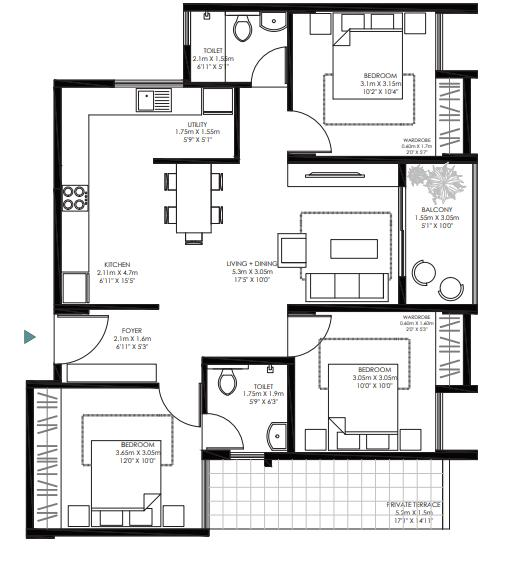Balcony: (404, 166, 474, 308)
Bedroom: (32, 384, 208, 532), (293, 12, 436, 159), (291, 312, 437, 452)
Dining Room: (152, 165, 261, 302)
Dining table: (155, 163, 230, 255)
Foyer: (56, 313, 284, 361)
Kitchen: (60, 87, 151, 302)
Living Room: (261, 163, 402, 306)
Terrace: (210, 459, 449, 534)
Wardrobe: (438, 79, 464, 157), (438, 312, 464, 388)
fridge: (61, 272, 92, 304)
toilet: (208, 359, 293, 455), (186, 9, 288, 85)
utility: (153, 91, 238, 163)
washing-machine: (202, 89, 234, 116)
